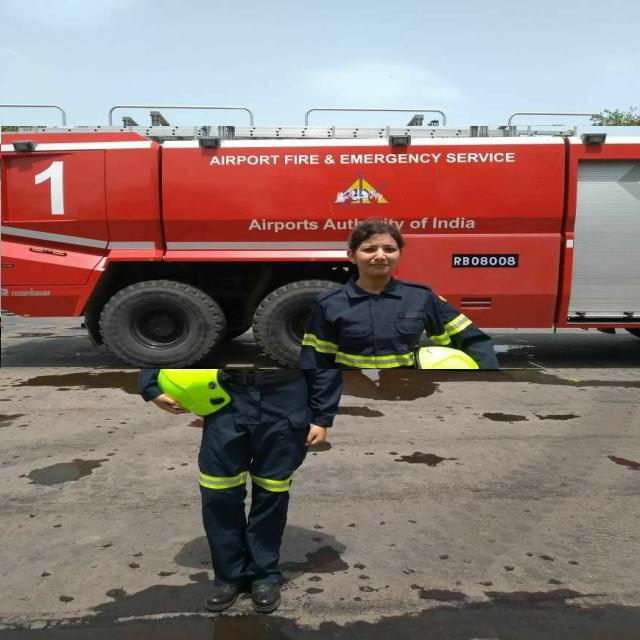emergency: (1, 126, 640, 369)
